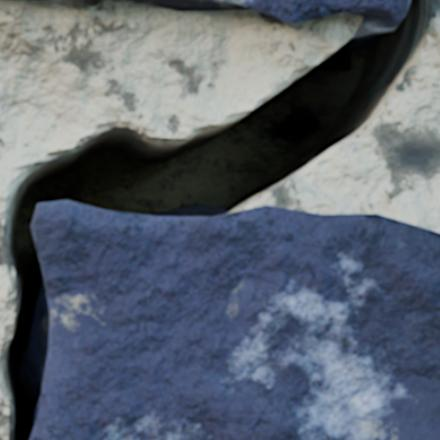brick: (32, 202, 439, 439), (133, 0, 409, 23)
crack: (0, 0, 437, 439)
